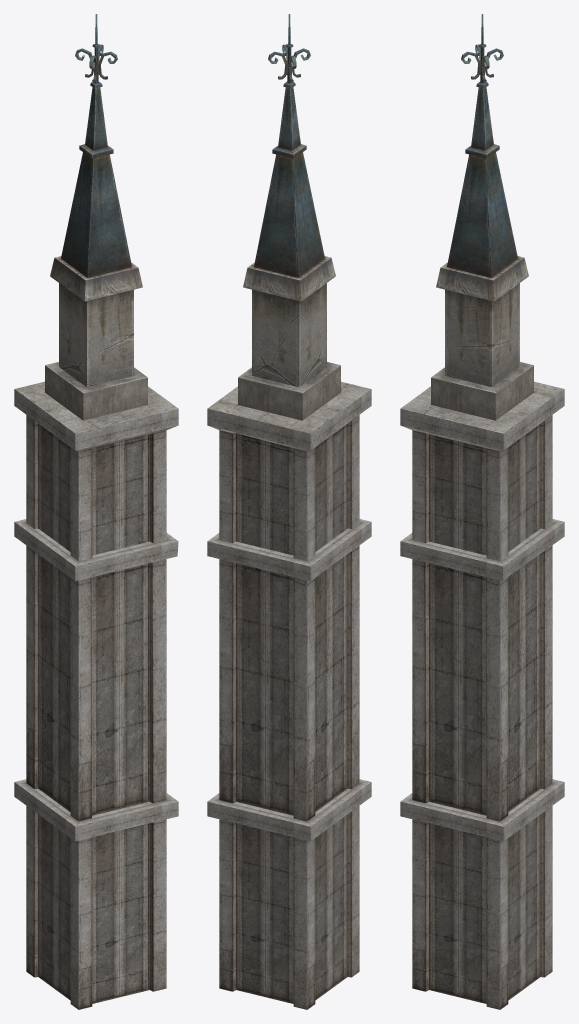
The model's file is bg_lut_lucastle_arch02_sm_ysi.FBX.
3 views of the same model, side by side, from view 1: azimuth 30°, elevation 25°; view 2: azimuth 150°, elevation 25°; view 3: azimuth 330°, elevation 25° (orthographic).
Visible parts, largest first — view 1: bg_lut_lucastle_arch02_sm_ysi; view 2: bg_lut_lucastle_arch02_sm_ysi; view 3: bg_lut_lucastle_arch02_sm_ysi.
Boxes of the visible parts, x1=… form: bg_lut_lucastle_arch02_sm_ysi: x1=14, y1=14, x2=178, y2=1009; bg_lut_lucastle_arch02_sm_ysi: x1=207, y1=14, x2=371, y2=1009; bg_lut_lucastle_arch02_sm_ysi: x1=400, y1=14, x2=564, y2=1009.
Size of the model in its own units: 57.16 by 512 by 58.65.
